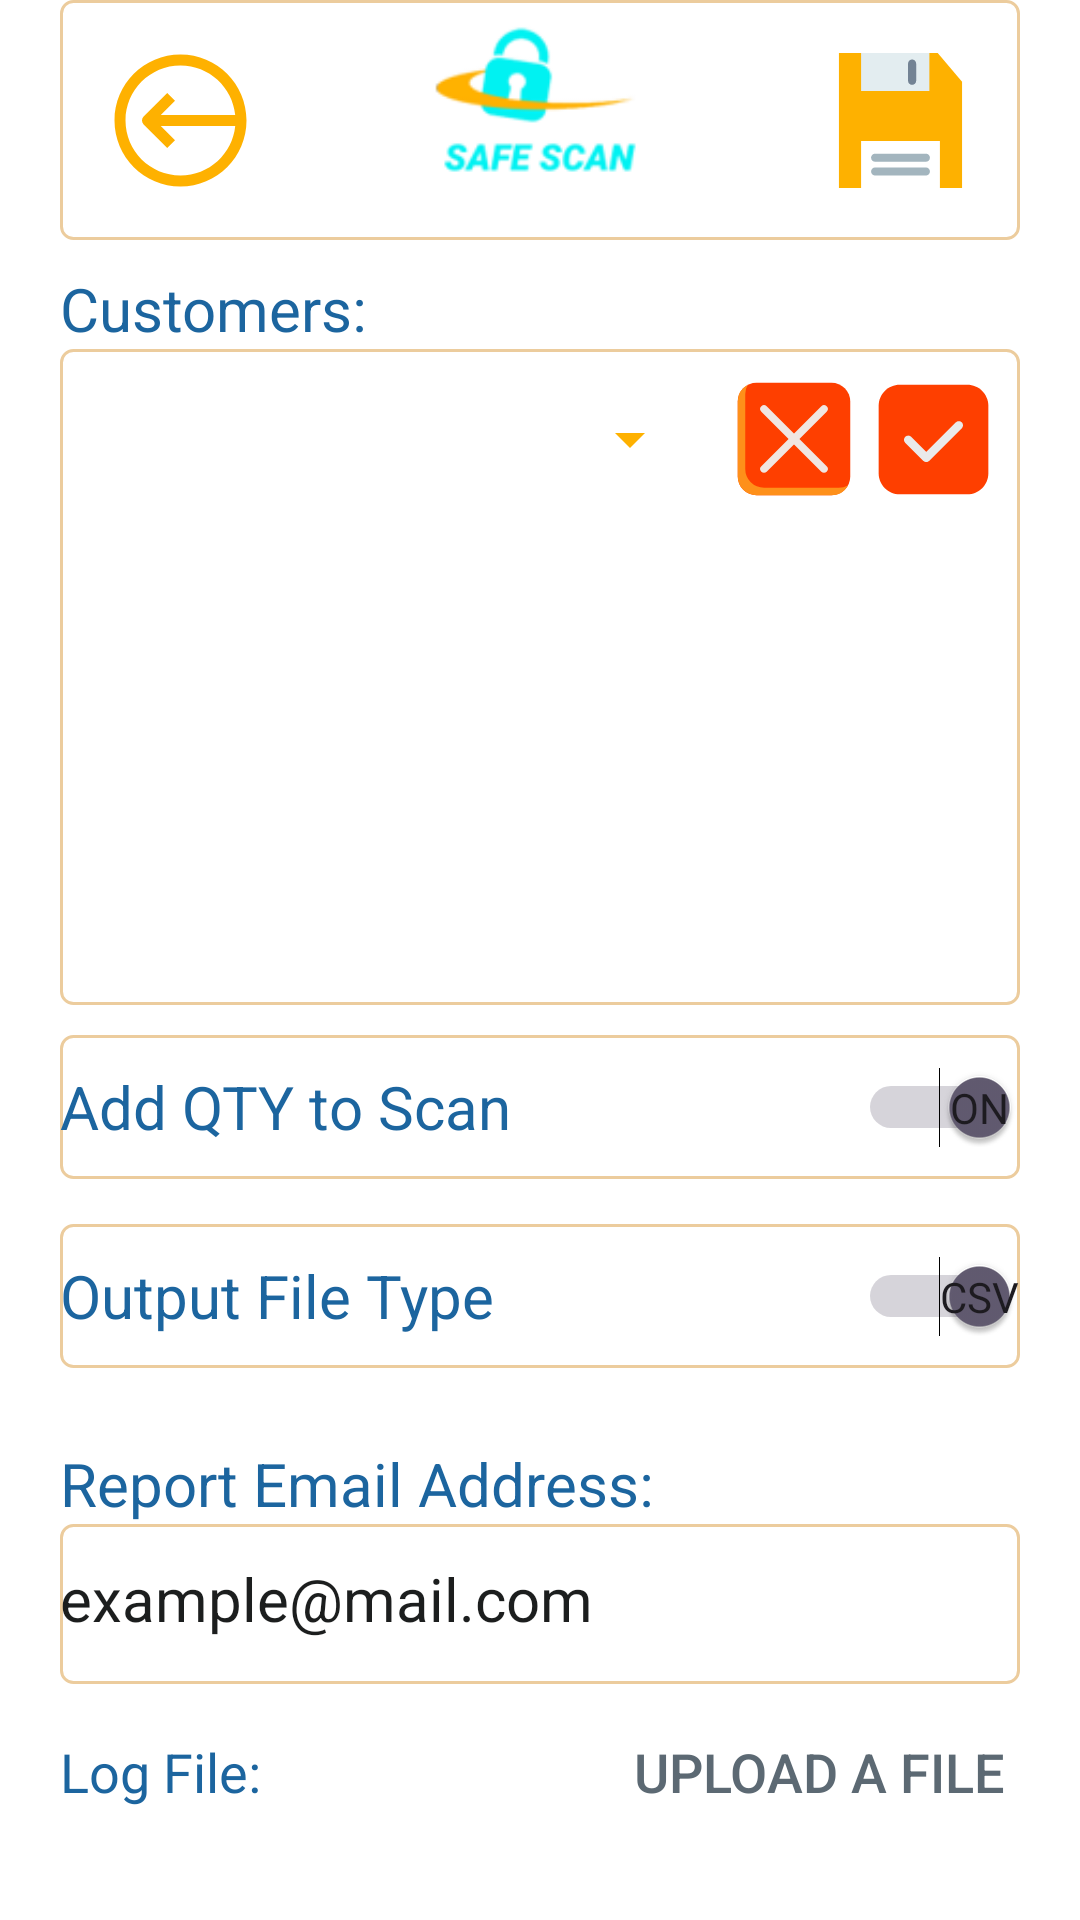

Named icons in this screenshot (1080x1920) and their centers, [x,y]:
Accept: [933,439]
Decline: [794,439]
Goto back: [180,120]
